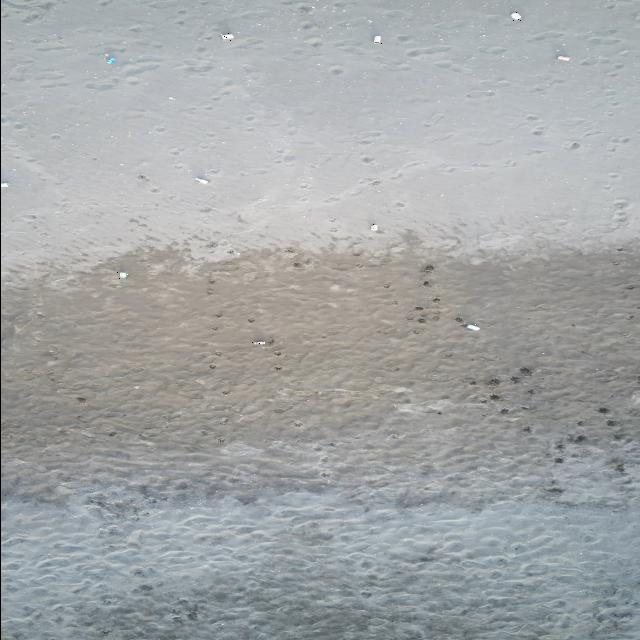Garbage: (252, 336, 272, 344), (104, 54, 115, 63), (220, 32, 232, 40), (116, 271, 127, 279), (195, 176, 207, 183), (511, 12, 520, 20), (372, 35, 380, 44), (464, 324, 478, 329), (556, 55, 569, 60), (252, 340, 266, 344), (369, 223, 376, 231), (455, 316, 462, 323), (0, 181, 7, 187)
